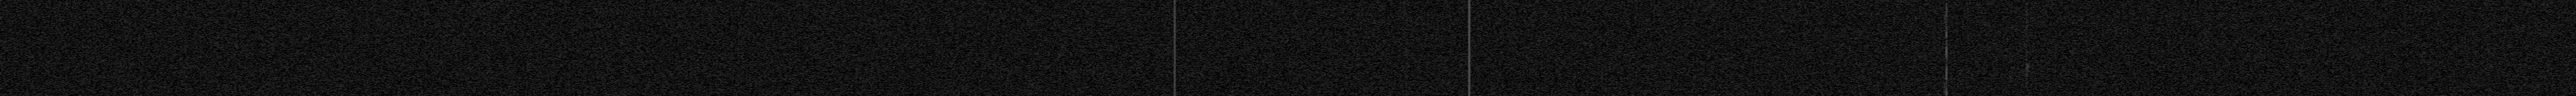wv_am: (1467, 0, 1472, 96)
wv_cw: (1173, 0, 1176, 96)
wv_usb: (1943, 3, 1948, 96), (2026, 2, 2031, 88), (2026, 89, 2029, 96)
